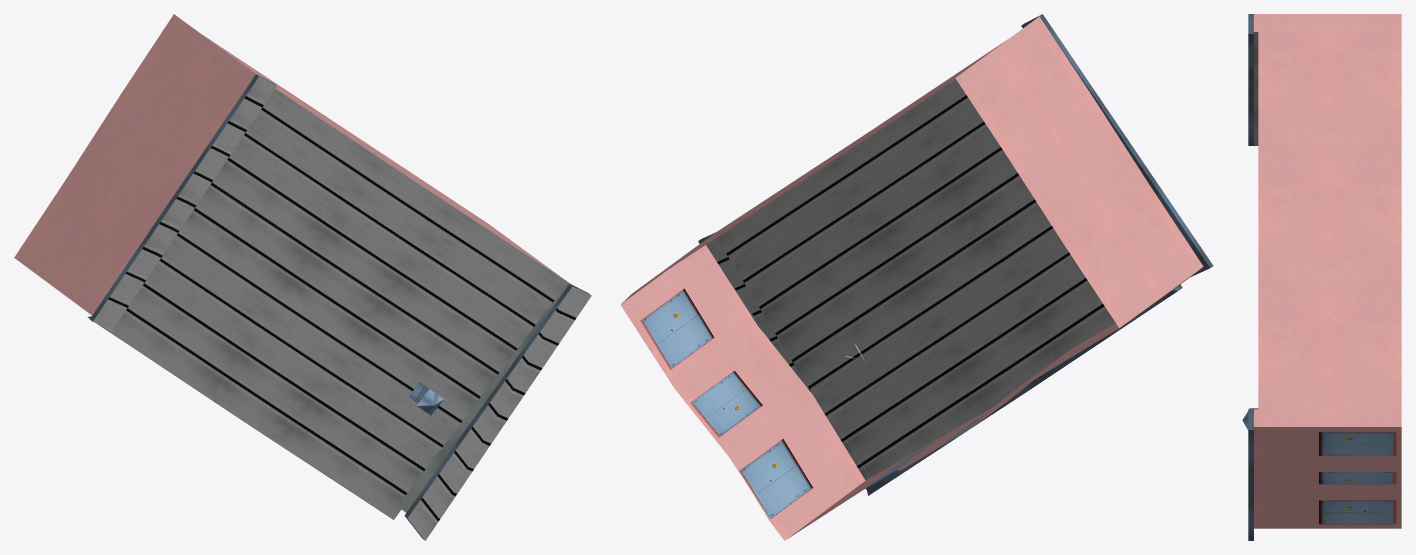
The model's file is Estonia8a-origo.obj.
The picture shows the model from 3 angles, left to right: view 1: azimuth 30°, elevation 25°; view 2: azimuth 150°, elevation 25°; view 3: azimuth 270°, elevation 25°; orthographic projection. The views are drawn at different scales.
Parts seen in each view (by area): view 1: Estoinia8a; view 2: Estoinia8a; view 3: Estoinia8a.
Boxes of the visible parts, <box> form: Estoinia8a: <box>14,14,591,540</box>; Estoinia8a: <box>620,14,1213,540</box>; Estoinia8a: <box>1242,14,1401,540</box>.
Bounding box in the file's own units: 19.12 × 18.5 × 5.88.
Materials: 4 (4 with a texture image).
